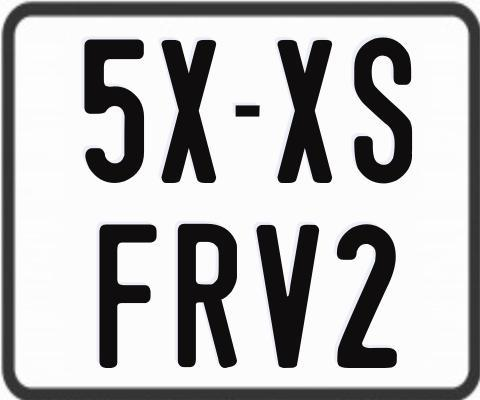2: (335, 224, 397, 371)
5: (84, 36, 146, 184)
F: (98, 222, 157, 370)
R: (178, 224, 243, 374)
S: (354, 37, 413, 183)
V: (256, 222, 318, 365)
X: (276, 39, 335, 185), (161, 38, 218, 182)
